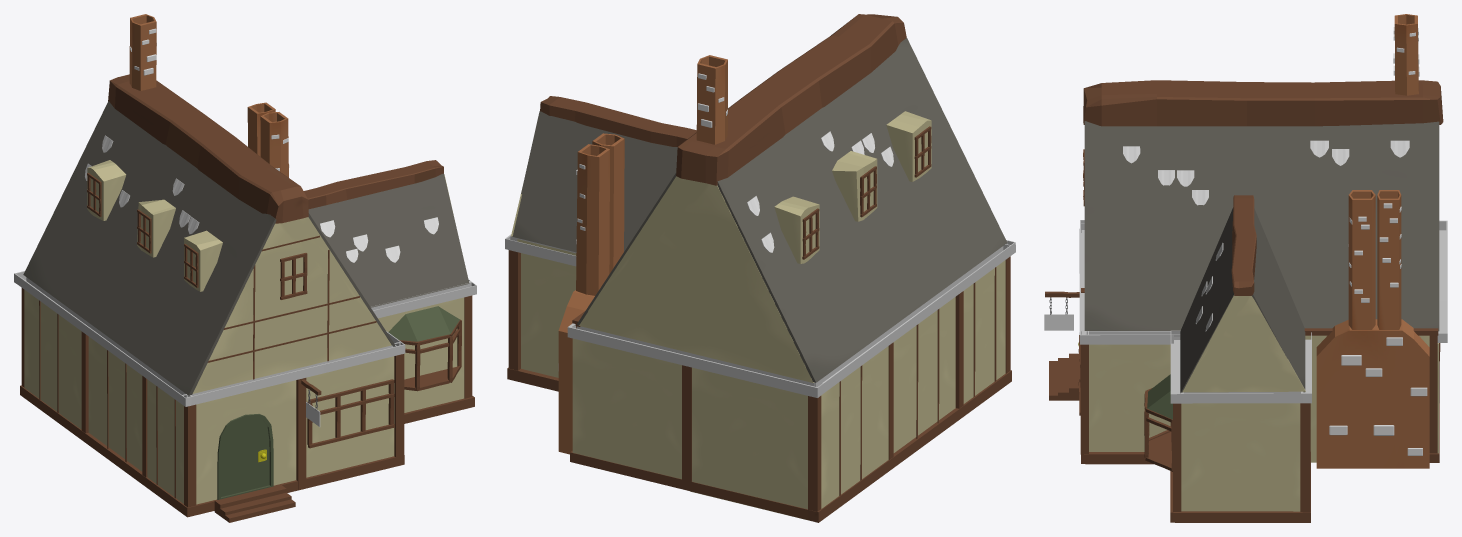
Rendered from tavern-idea.fbx.
The picture shows the model from 3 angles, left to right: view 1: azimuth 30°, elevation 25°; view 2: azimuth 150°, elevation 25°; view 3: azimuth 270°, elevation 25°; orthographic projection. The views are drawn at different scales.
Visible parts, largest first — view 1: Cube.500, Plane.149, Plane.131, Cube.420; view 2: Cube.500, Cube.420; view 3: Cube.500, Plane.137, Cube.502.
Boxes of the visible parts, x1,y1,x2,y2 form: Cube.500: (14,14,476,522); Plane.149: (192,217,391,393); Plane.131: (217,414,273,499); Cube.420: (142,376,147,477); Cube.500: (505,14,1015,522); Cube.420: (955,291,963,408); Cube.500: (1045,14,1447,522); Plane.137: (1305,335,1429,462); Cube.502: (1044,314,1073,330).
Size of the model in its own units: 1265 by 1311 by 1234.
